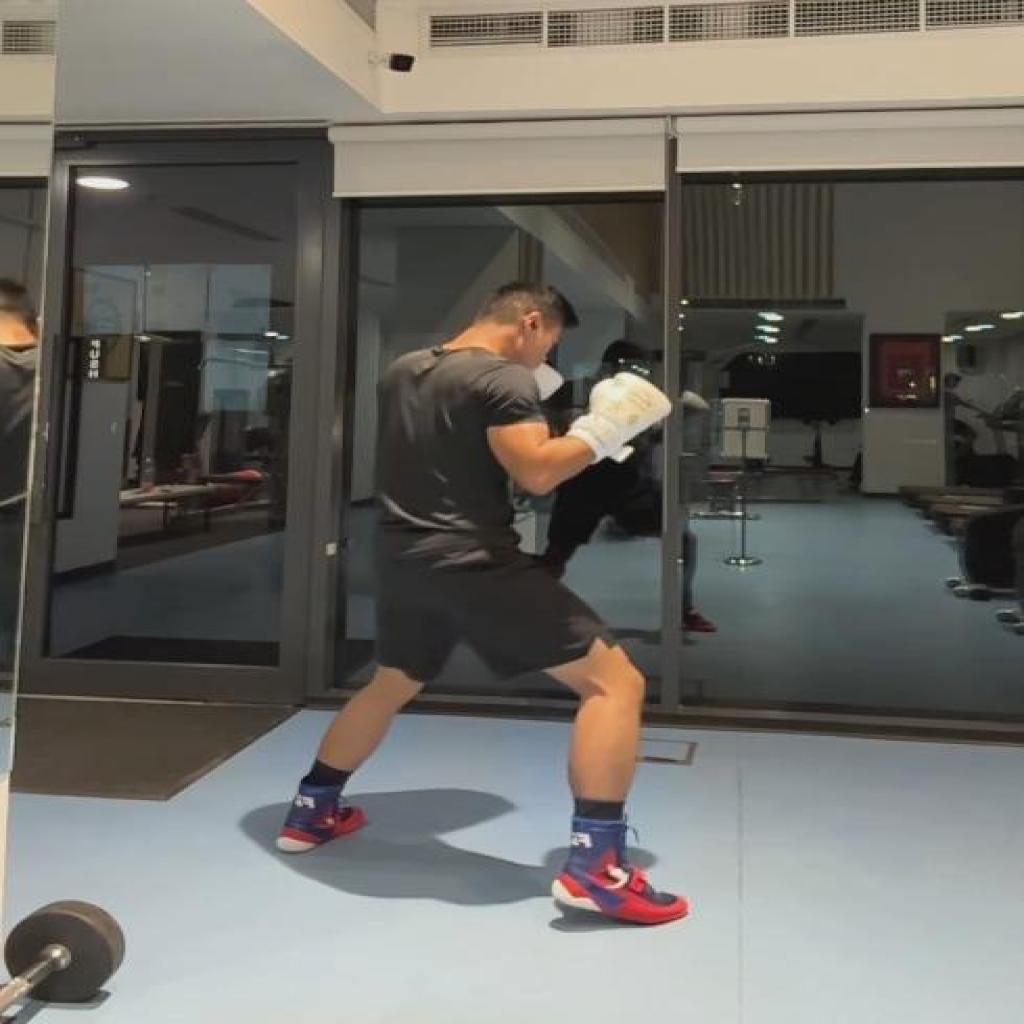no punch: (267, 276, 696, 930)
